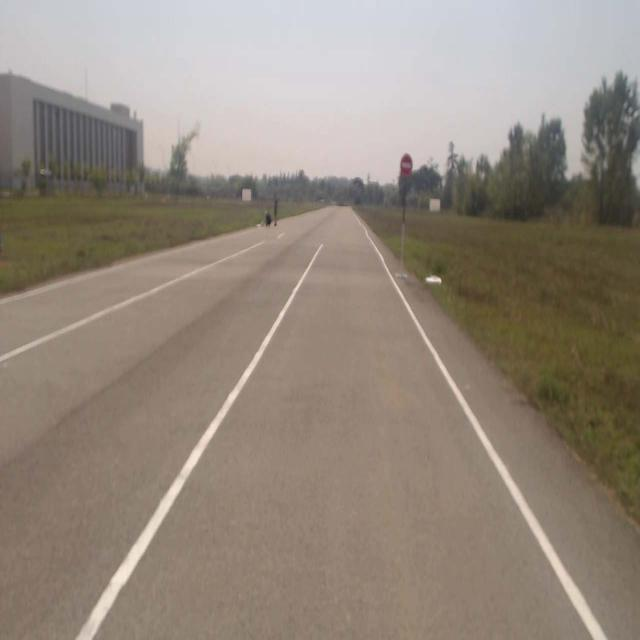girisyok: (400, 154, 412, 177)
